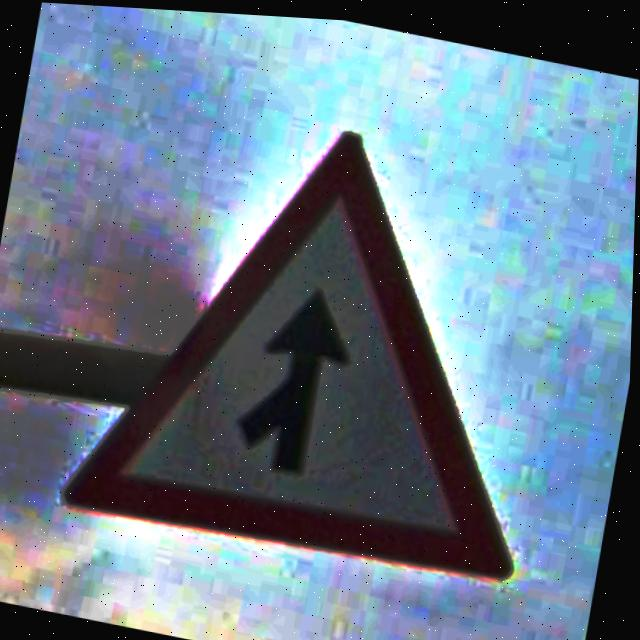leftmerge: (60, 81, 582, 589)
